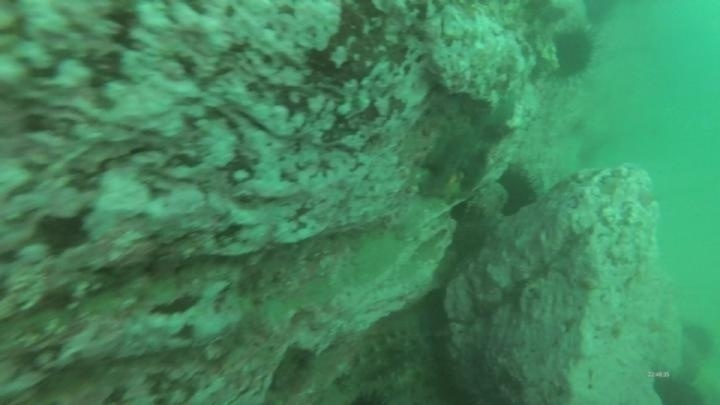echinus: (549, 24, 600, 81), (495, 163, 540, 218), (649, 371, 708, 405)
holothurian: (338, 354, 429, 405), (337, 322, 427, 373)
